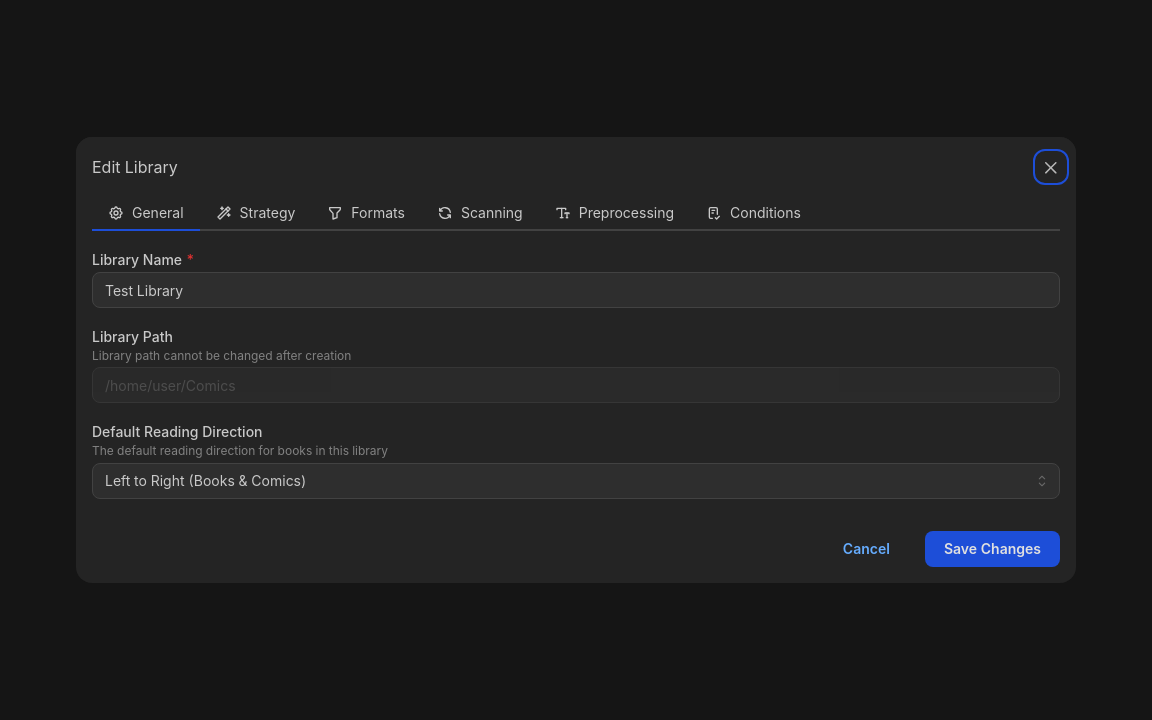
LibraryModal (Edit Mode) › Strategy Tab in Edit Mode › should show series strategy as disabled in edit mode
Expected: the heading "Edit Library" is shown, [92, 159, 178, 175]
Click on Strategy tab
Click the tab "Strategy" at (256, 214), box [200, 197, 311, 231]
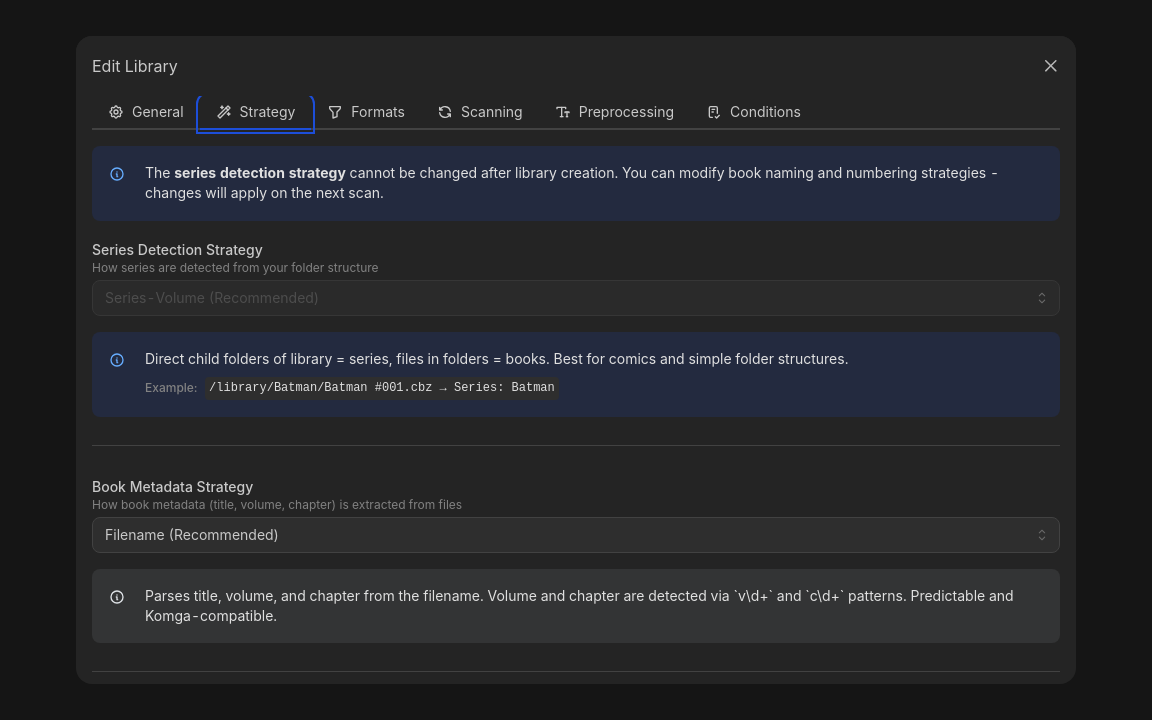
Expected: the field showing "Series-Volume (Recommended)" is disabled, [92, 280, 1060, 316]
